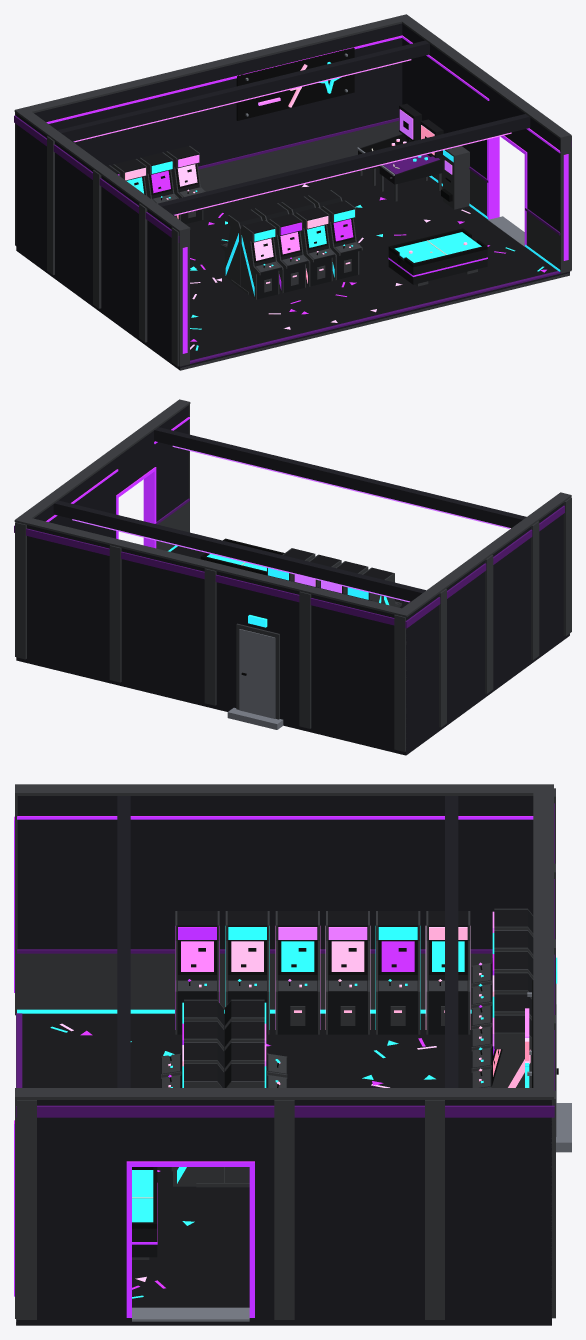
3 views of the same model, one above another, from view 1: azimuth 30°, elevation 25°; view 2: azimuth 150°, elevation 25°; view 3: azimuth 270°, elevation 25° (orthographic). The views are drawn at different scales.
Visible parts, largest first — view 1: walls_soot_black, floor_black, walls_black_light, ceiling_soot_black, island_black, island_black_light, walls_neon_purple, sign_black_dark, walls_neon_purple_dark, floor_soot_black, air_hockey_black, pinball_black (+15 smaller); view 2: walls_soot_black, walls_black_light, ceiling_soot_black, walls_neon_purple_dark, walls_mid_grey, floor_soot_black, walls_neon_purple, ceiling_neon_purple_light, island_black, island_black_light, air_hockey_black_dark; view 3: walls_soot_black, walls_black_light, floor_black, wall_cabinets_black, wall_cabinets_black_light, ceiling_soot_black, walls_neon_purple_dark, island_black, walls_neon_purple, island_black_light, floor_soot_black, wall_cabinets_hot_pink (+8 smaller).
Part boxes in pixels (x1,y1,x2,y2): walls_soot_black: [16, 23, 559, 359]; floor_black: [185, 167, 557, 360]; walls_black_light: [14, 14, 571, 366]; ceiling_soot_black: [57, 40, 530, 214]; island_black: [222, 190, 361, 299]; island_black_light: [221, 190, 362, 299]; walls_neon_purple: [46, 35, 568, 353]; sign_black_dark: [236, 47, 354, 120]; walls_neon_purple_dark: [14, 115, 571, 242]; floor_soot_black: [16, 246, 569, 370]; air_hockey_black: [388, 238, 487, 284]; pinball_black: [358, 103, 443, 184]; walls_soot_black: [27, 405, 563, 750]; walls_black_light: [14, 399, 571, 751]; ceiling_soot_black: [53, 427, 526, 601]; walls_neon_purple_dark: [14, 498, 564, 628]; walls_mid_grey: [227, 629, 283, 729]; floor_soot_black: [16, 633, 569, 755]; walls_neon_purple: [46, 417, 189, 548]; ceiling_neon_purple_light: [72, 445, 510, 602]; island_black: [268, 548, 400, 604]; island_black_light: [267, 548, 401, 607]; air_hockey_black_dark: [200, 538, 284, 575]; walls_soot_black: [17, 796, 551, 1318]; walls_black_light: [15, 784, 555, 1319]; floor_black: [22, 1013, 471, 1307]; wall_cabinets_black: [177, 909, 533, 1087]; wall_cabinets_black_light: [175, 908, 533, 1087]; ceiling_soot_black: [117, 796, 458, 1087]; walls_neon_purple_dark: [16, 803, 554, 1117]; island_black: [161, 1000, 287, 1087]; walls_neon_purple: [14, 816, 533, 1317]; island_black_light: [161, 999, 287, 1187]; floor_soot_black: [17, 1317, 551, 1325]; wall_cabinets_hot_pink: [199, 926, 530, 1087].
Size of the model in its own units: 11.18 by 3.79 by 8.35.
